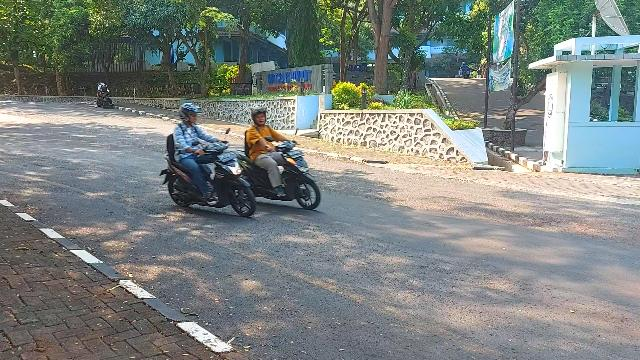helm: (181, 105, 204, 124), (253, 108, 268, 127)
motor: (161, 129, 257, 218), (243, 129, 322, 211)
